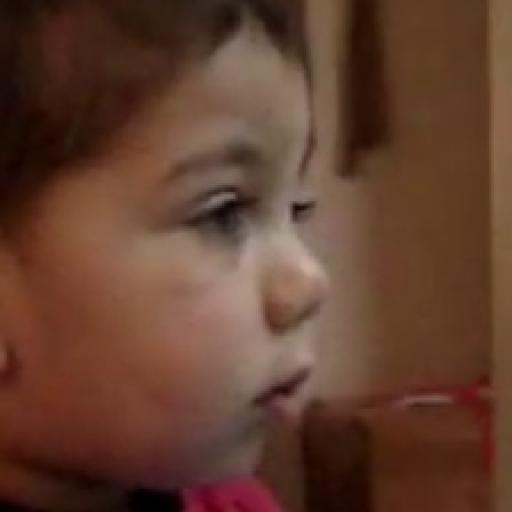Autism: (2, 0, 420, 507)
